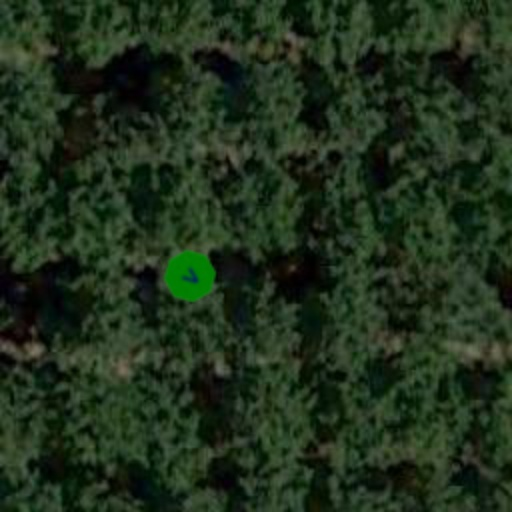octagon: (152, 238, 228, 314)
